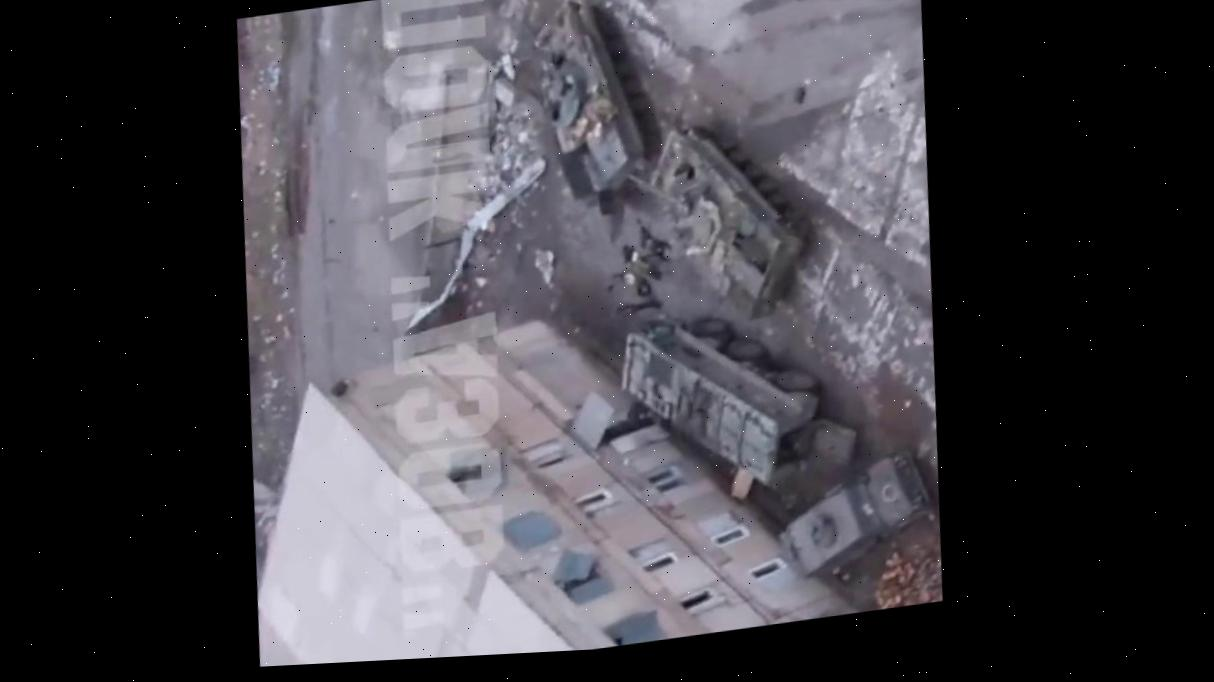armored_car: (772, 451, 945, 588)
person: (626, 209, 671, 265), (616, 241, 665, 285), (612, 263, 660, 303), (610, 296, 669, 321)
tank: (624, 106, 827, 338), (516, 0, 674, 202)
truck: (602, 286, 869, 517)
